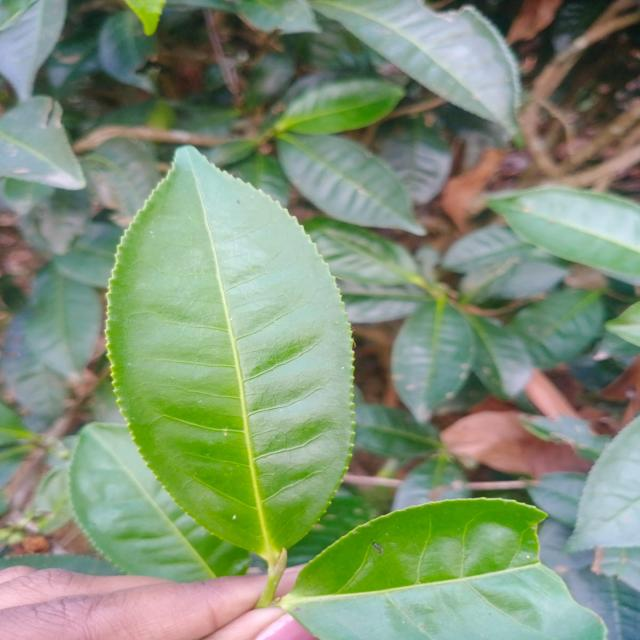Category D 7+ days, Not for Tea: (79, 123, 377, 572)
